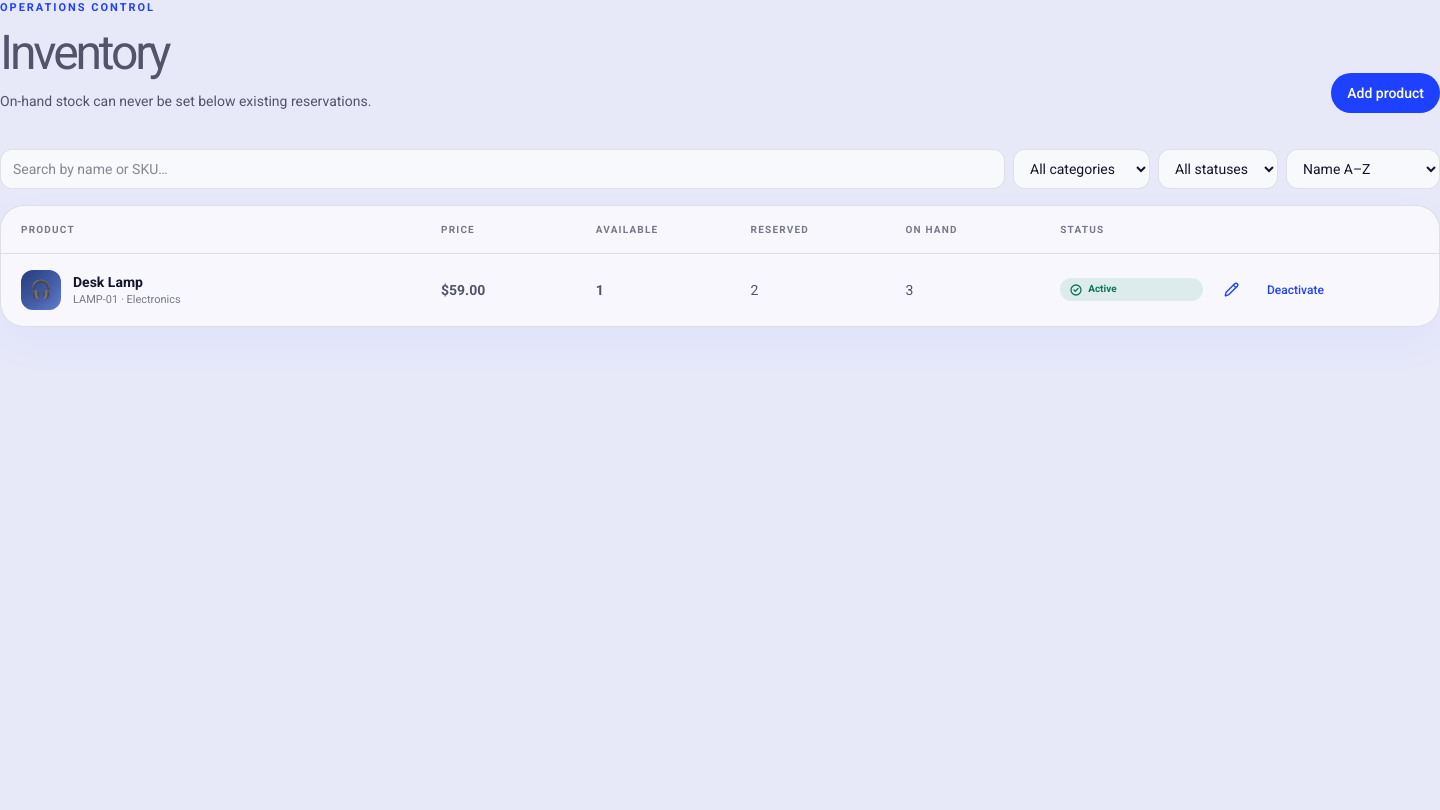
Test case: AdminInventory › rejects a stock value below currently reserved units when editing
Expected: the text "Desk Lamp" is shown, [73,274,143,290]
Click the button named "Edit Desk Lamp" at (1231, 290), box [1215,274,1247,306]
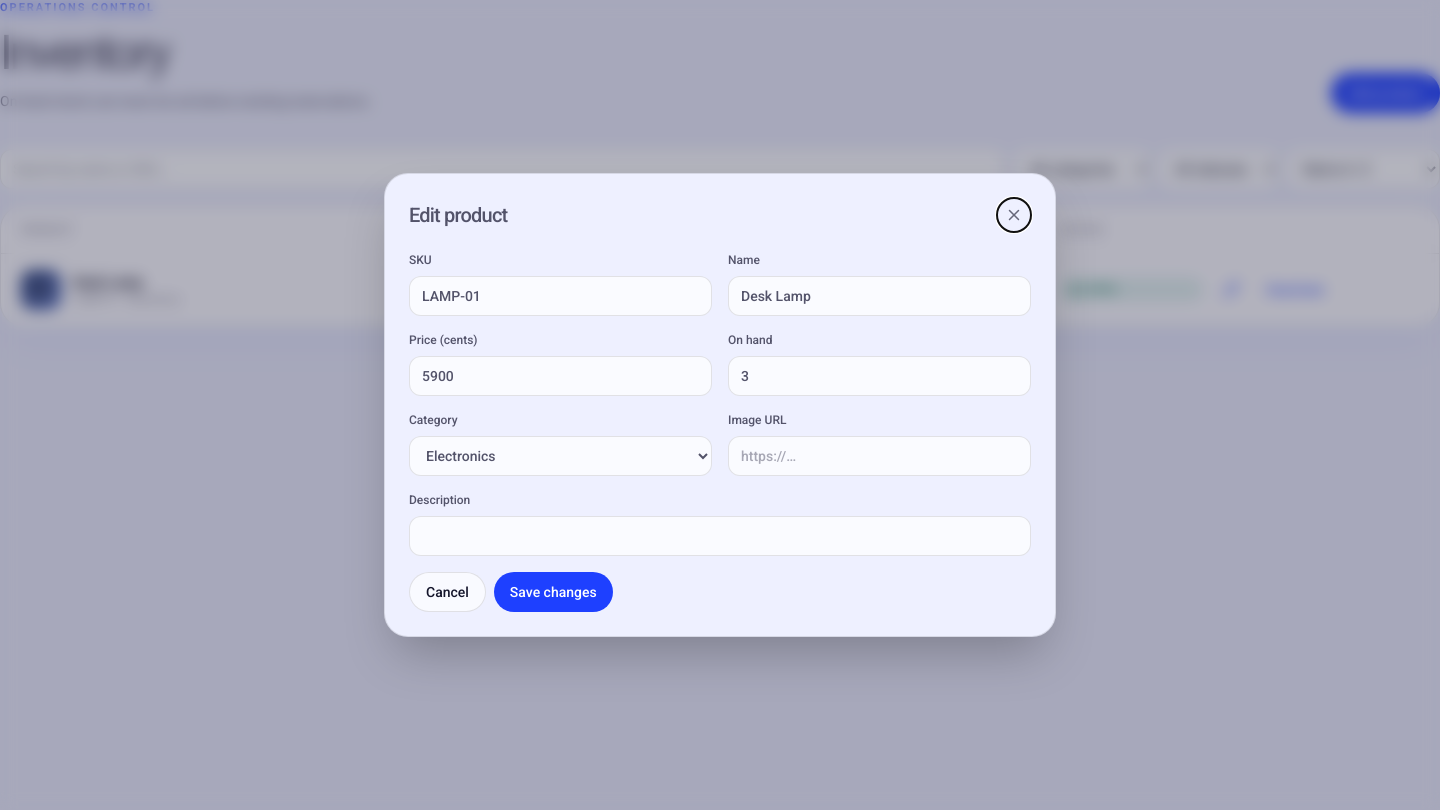
Replace the text in the number field labelled "On hand" with "1" at (880, 376), box [728,356,1031,396]
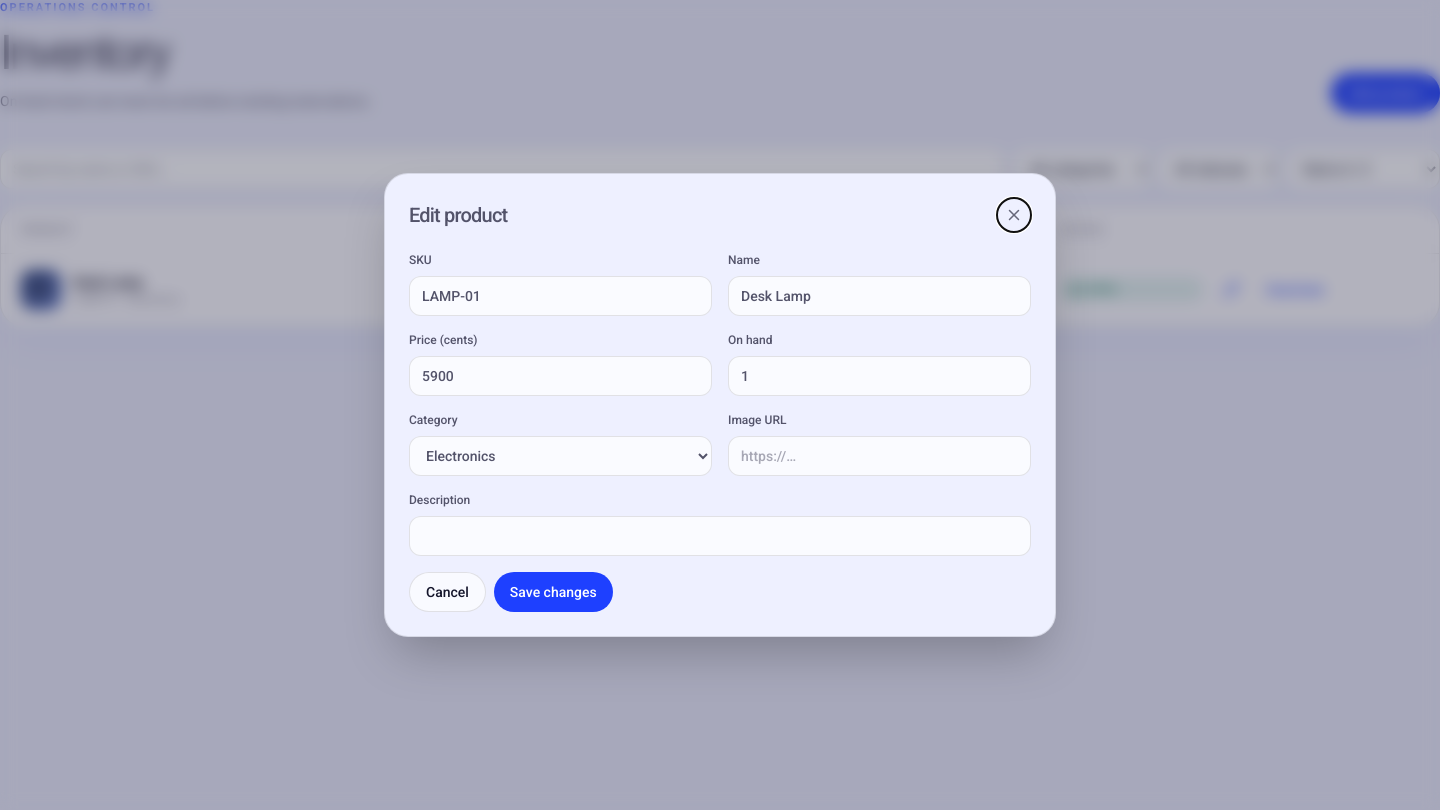
Click the button "Save changes" at (553, 592), box [494,572,613,612]
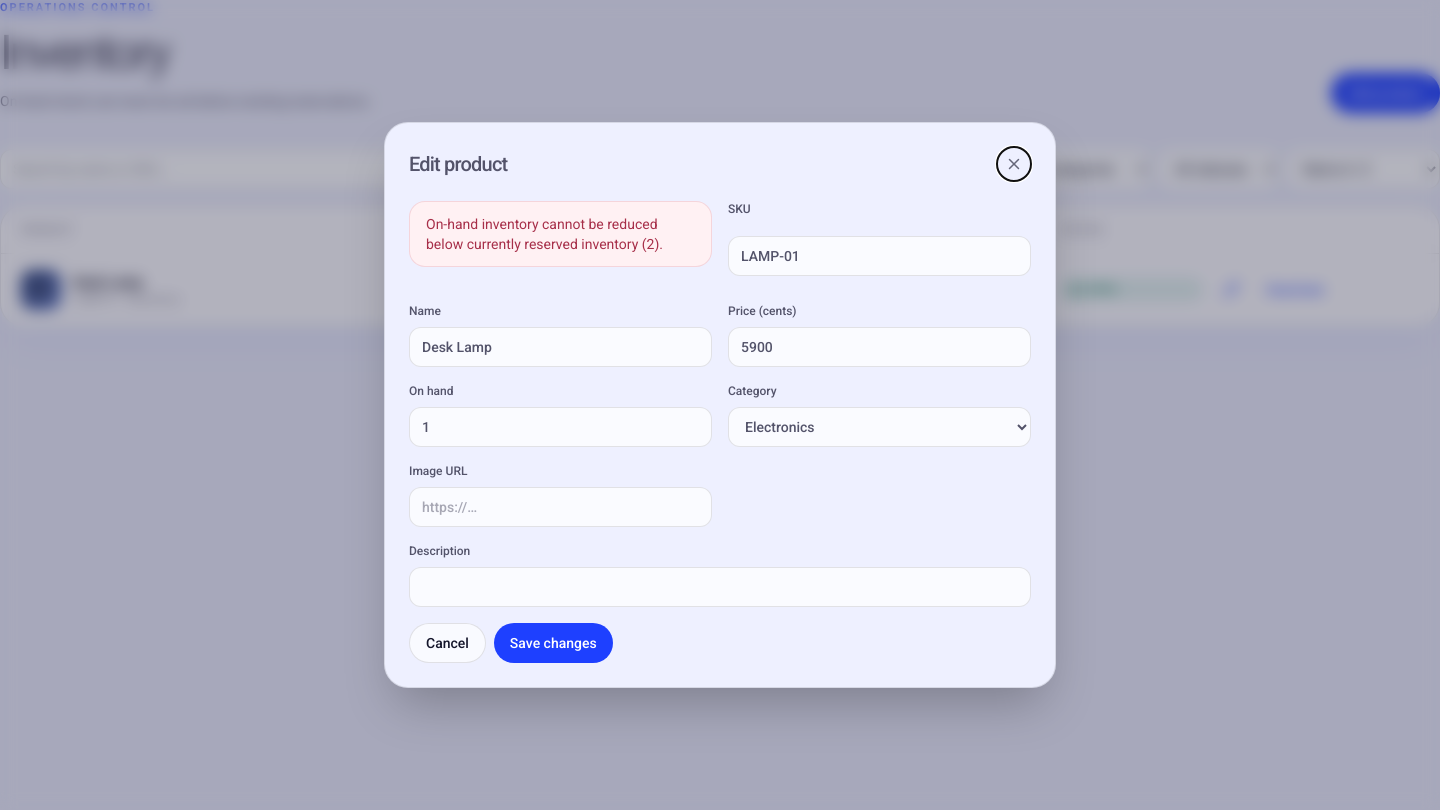
Now the text "cannot be reduced below currently reserved inventory (2)" is shown, box [426,216,663,252]
